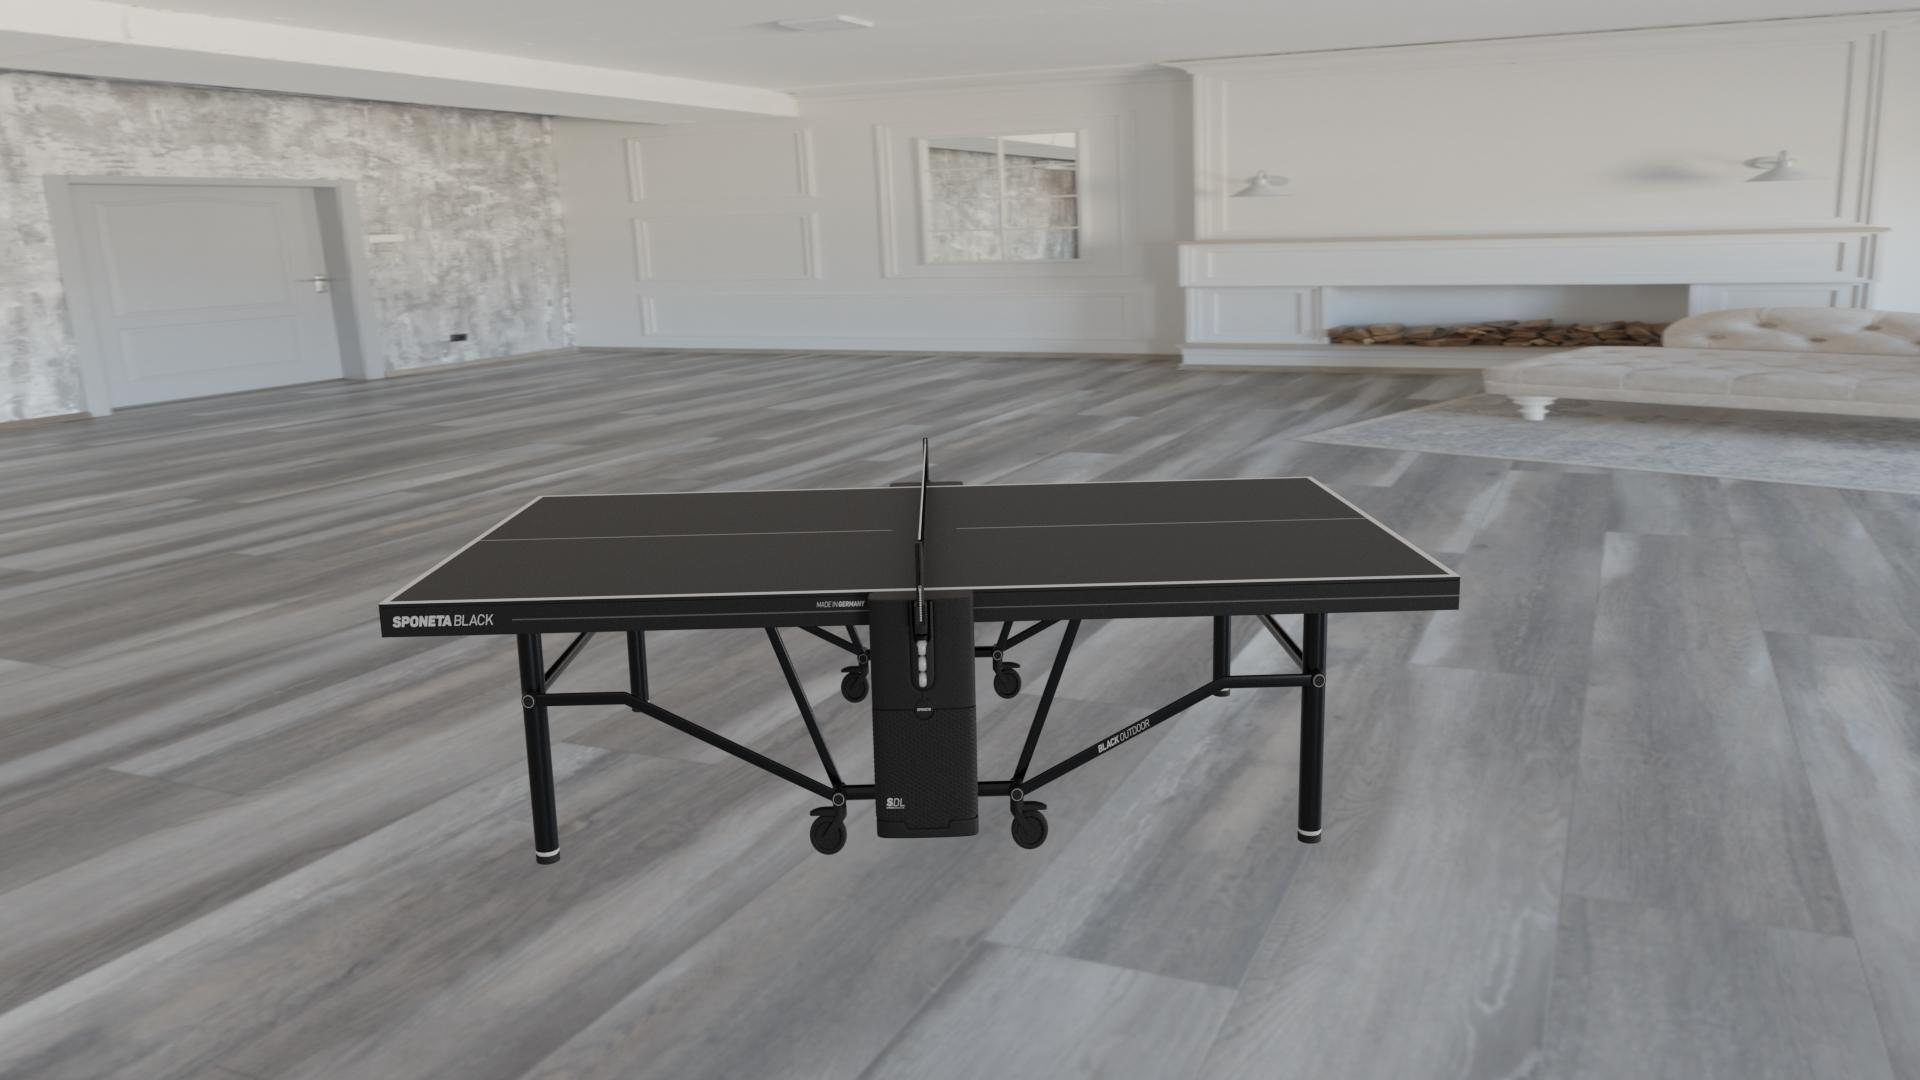table: (389, 477, 1451, 601)
